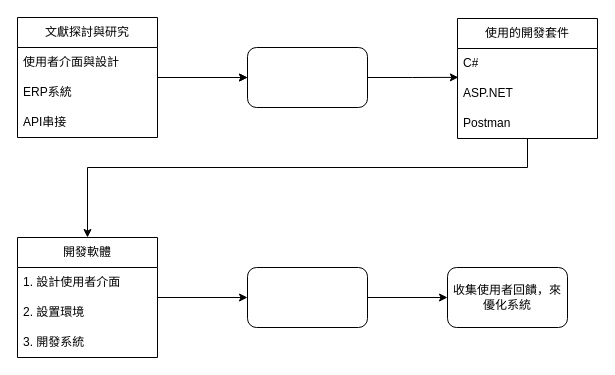
Some shapes in this 615 by 375 pixel diagram are drawn without their labels. The shapes that lost their labels are listed below. From the top down, each one's box as (x1, y1, x2, y2) in pixels, then its label:
(246, 46, 368, 108): 整理文獻與探討相關應用
(246, 266, 368, 328): 軟體測試
